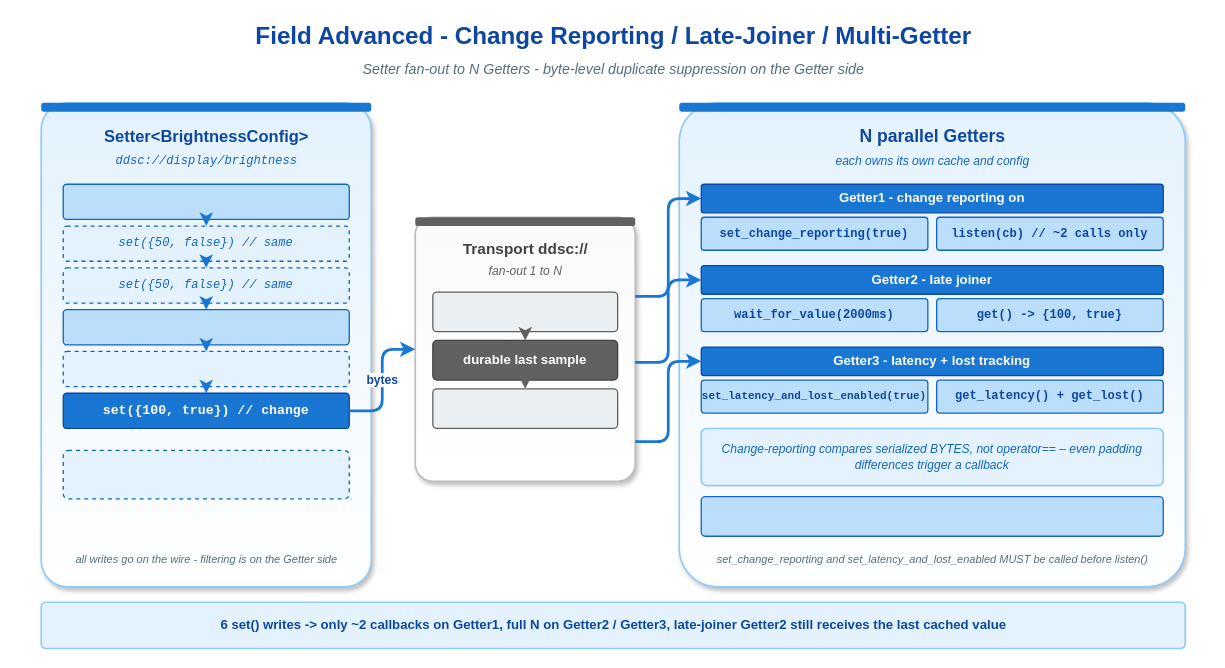
Some shapes in this 1225 by 668 pixel diagram are drawn without their labels. The shapes that lost their labels are listed below. From the top down, each one's centre as x and y in pixels, then its label:
(x=205, y=201): set({50, false})
(x=205, y=326): set({75, false}) // change
(x=525, y=311): route + buffer
(x=205, y=368): set({75, false}) // same
(x=525, y=408): deliver bytes
(x=205, y=474): sync hook emits cached value on connect
(x=931, y=515): Getter1 / Getter2 / Getter3 each fire their own callback per write
